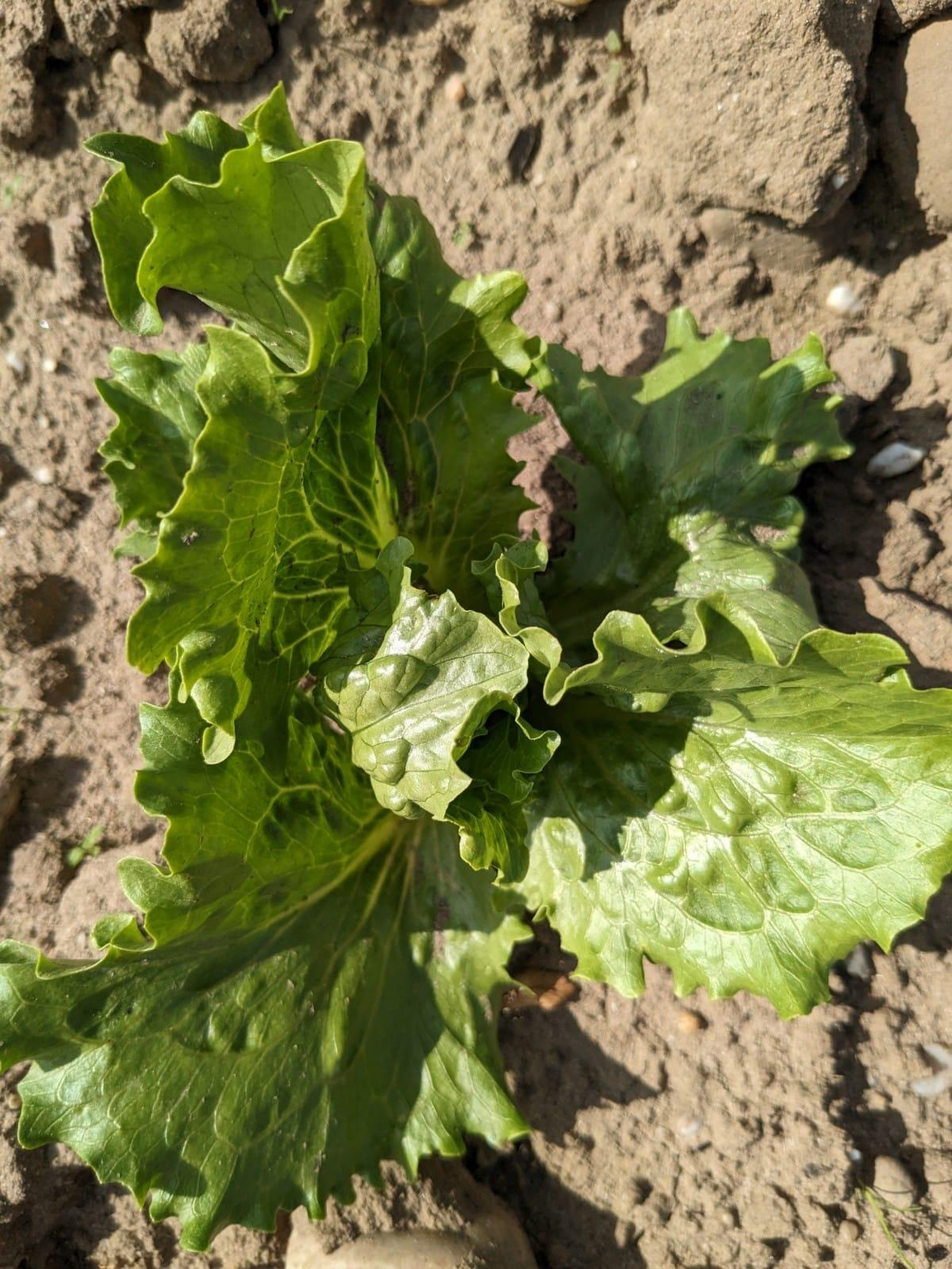Healthy: (2, 89, 950, 1250)
